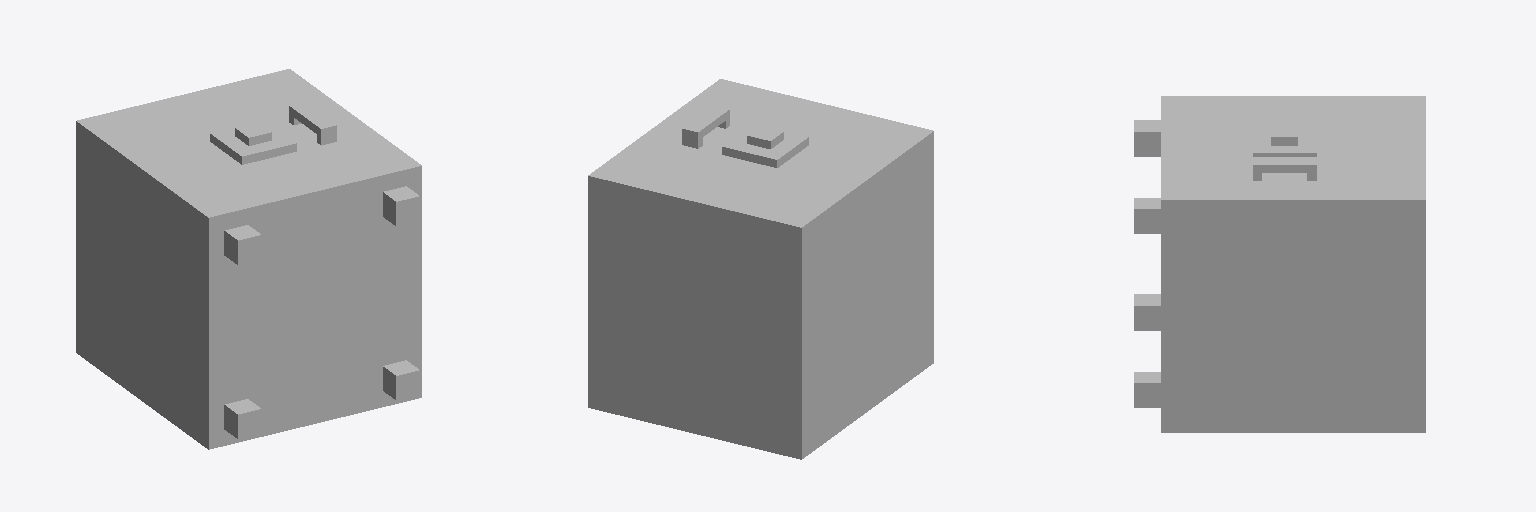
File: Vault.obj
3 renders of one model, left to right at view 1: azimuth 30°, elevation 25°; view 2: azimuth 150°, elevation 25°; view 3: azimuth 270°, elevation 25°, orthographic.
Visible parts, largest first — view 1: Untitled.057; view 2: Untitled.057; view 3: Untitled.057.
Part boxes in pixels (x1,y1,x2,y2): Untitled.057: (76, 69, 421, 449); Untitled.057: (588, 79, 933, 459); Untitled.057: (1134, 96, 1425, 432).
Size of the model in its own units: 2.7 by 3 by 3.2.